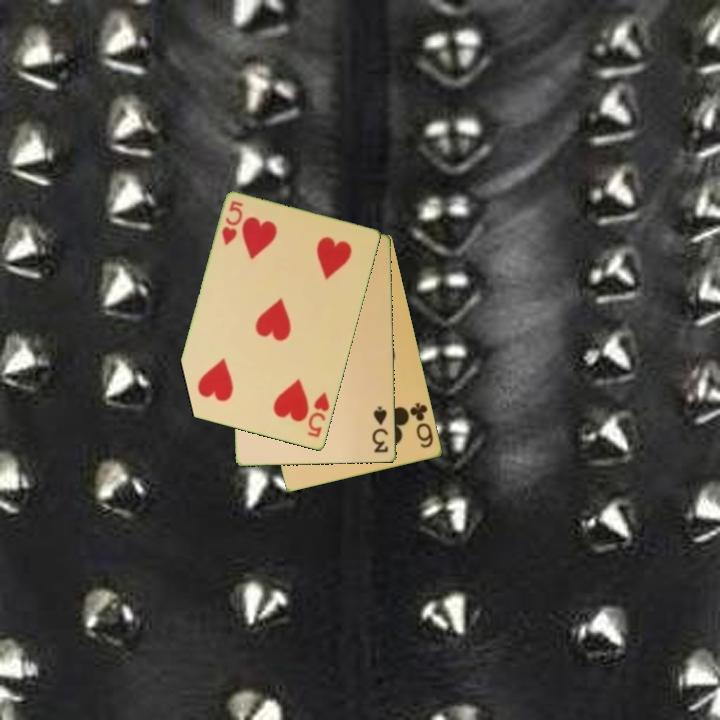3s: (370, 403, 391, 456)
5h: (304, 389, 333, 441), (218, 198, 246, 249)
6c: (407, 399, 436, 451)
